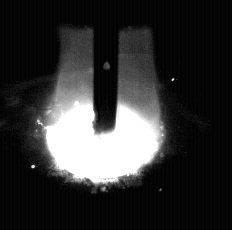arame: (94, 0, 119, 134)
poca: (45, 0, 167, 230)
